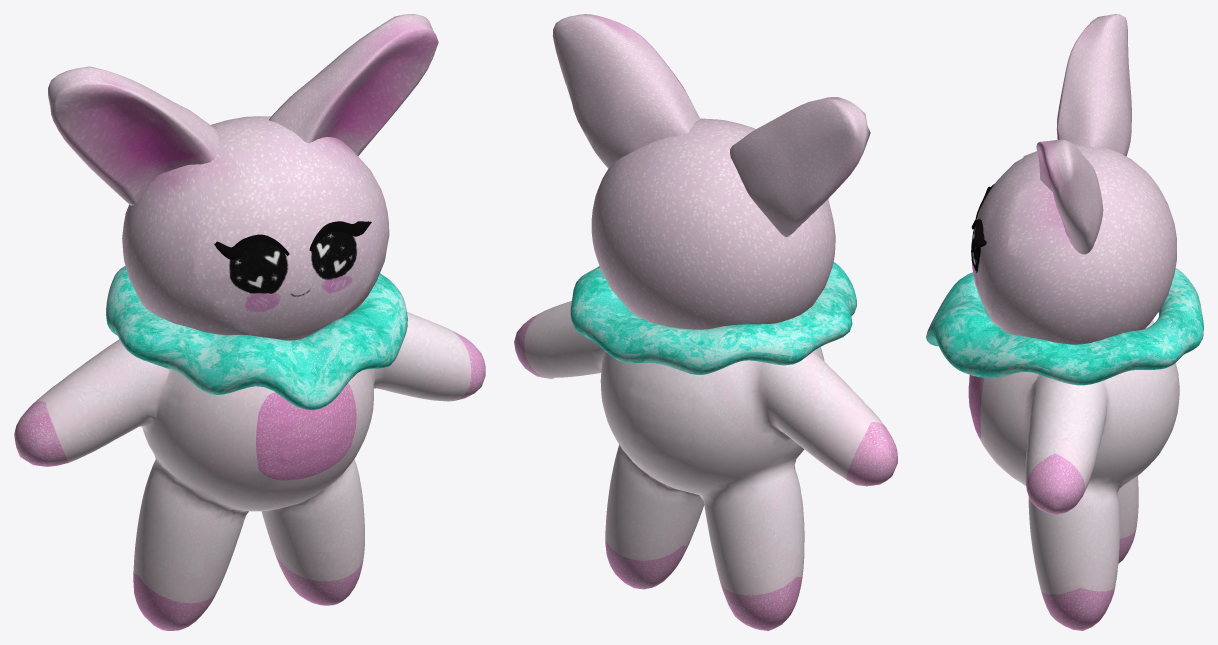
File: rabbit.glb
3 views of the same model, side by side, from view 1: azimuth 30°, elevation 25°; view 2: azimuth 150°, elevation 25°; view 3: azimuth 270°, elevation 25° (orthographic). The views are drawn at different scales.
Visible parts, largest first — view 1: conejito; view 2: conejito; view 3: conejito.
Boxes of the visible parts, x1=… form: conejito: x1=14, y1=14, x2=485, y2=630; conejito: x1=514, y1=14, x2=897, y2=630; conejito: x1=926, y1=14, x2=1203, y2=630.
Size of the model in its own units: 0.7788 by 1 by 0.4908.
Materials: 4 (3 with a texture image).
